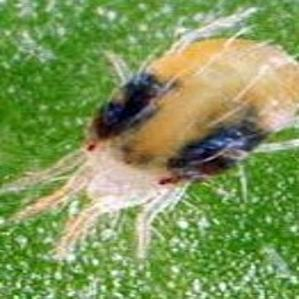spider mite: (6, 13, 299, 299)
